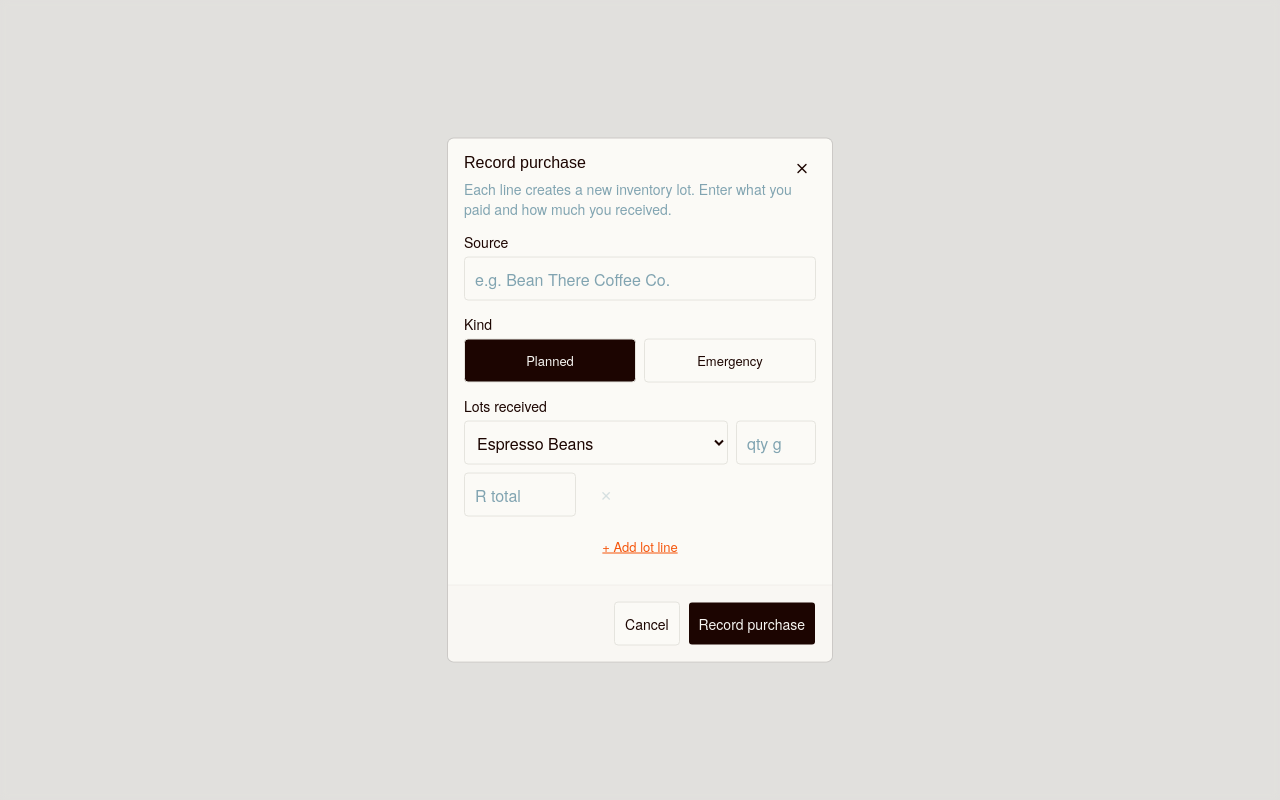
Scenario: PurchaseForm › shows a field message for an empty total
The width and height of the screenshot is (1280, 800).
Step 1. Type "Origin" into the field labelled "Source" → (640, 278), box top-left (464, 256), bottom-right (816, 300)
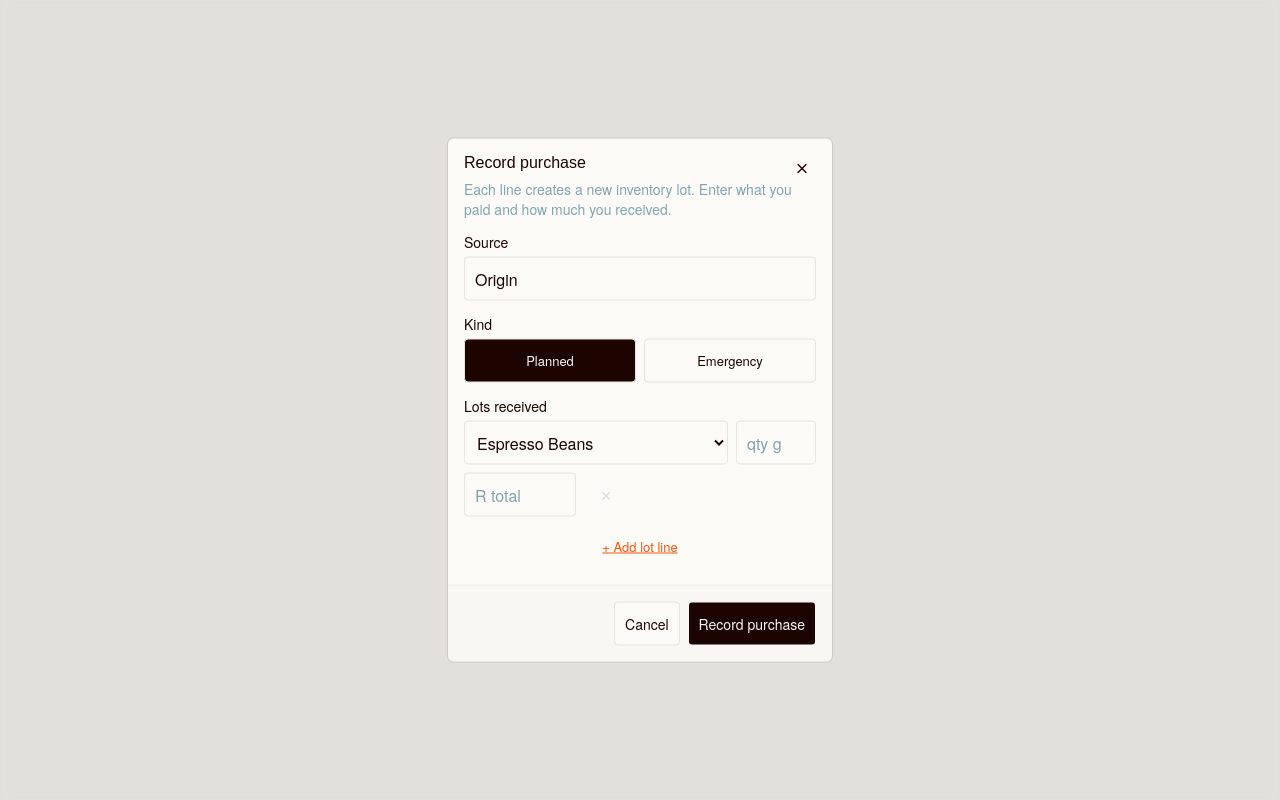
Step 2. Type "500" into the field named "Line 1 quantity (g)" → (776, 442), box top-left (736, 420), bottom-right (816, 464)
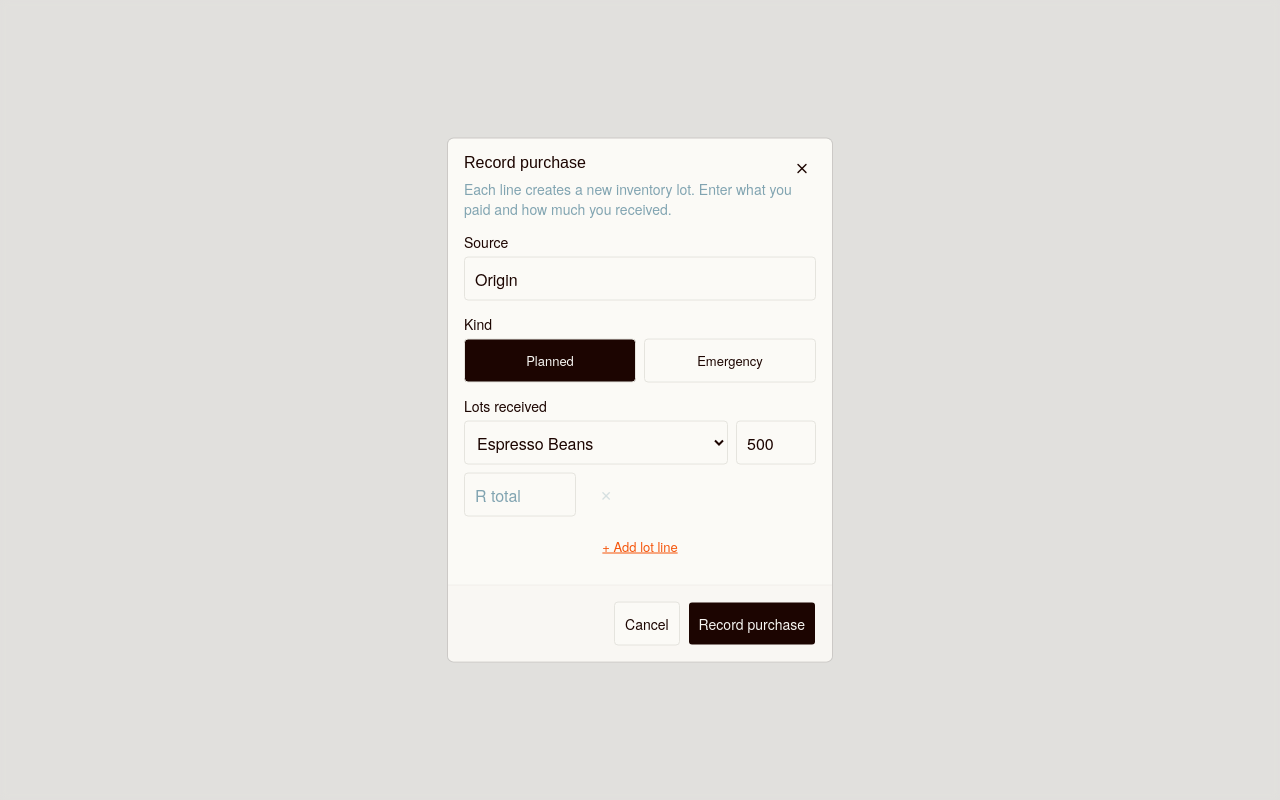
Step 3. Click the button "Record purchase" → (752, 624), box top-left (688, 602), bottom-right (816, 646)
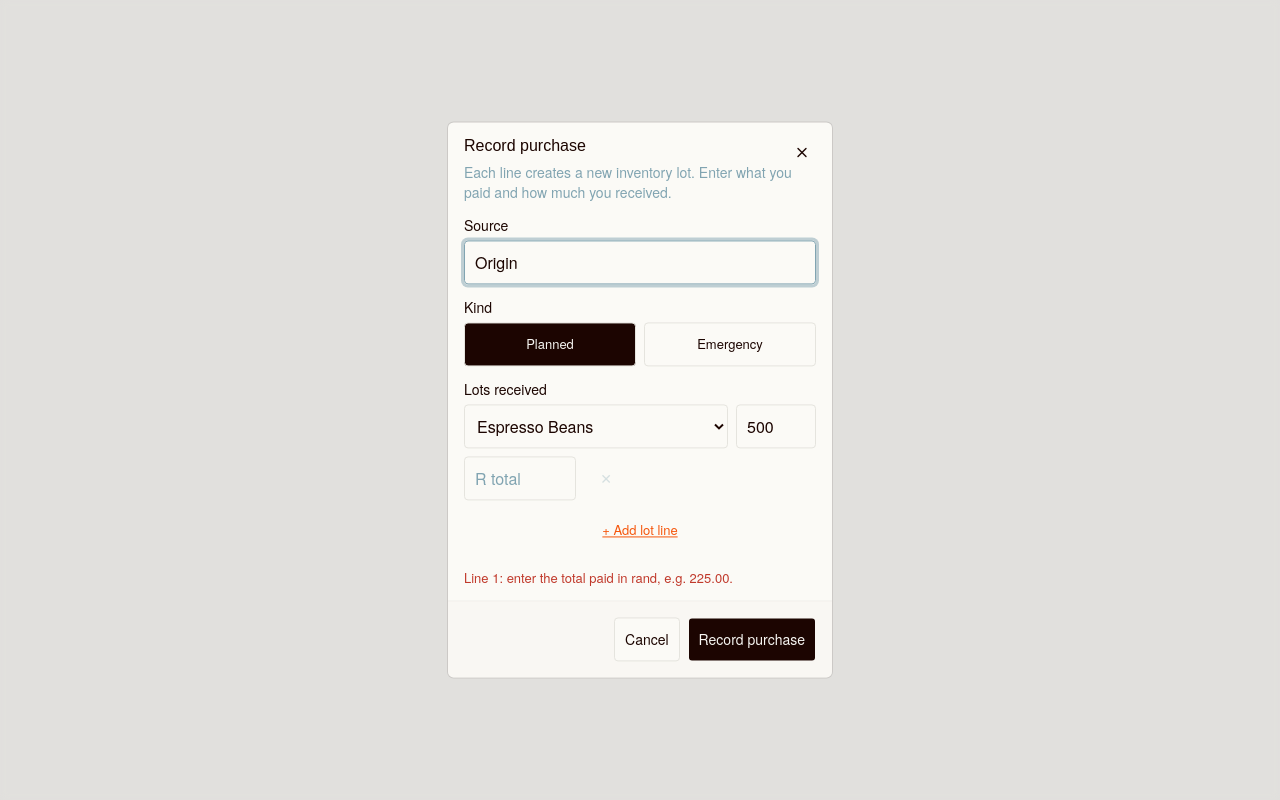
Check: the message shows "total paid", box top-left (464, 568), bottom-right (733, 587)
